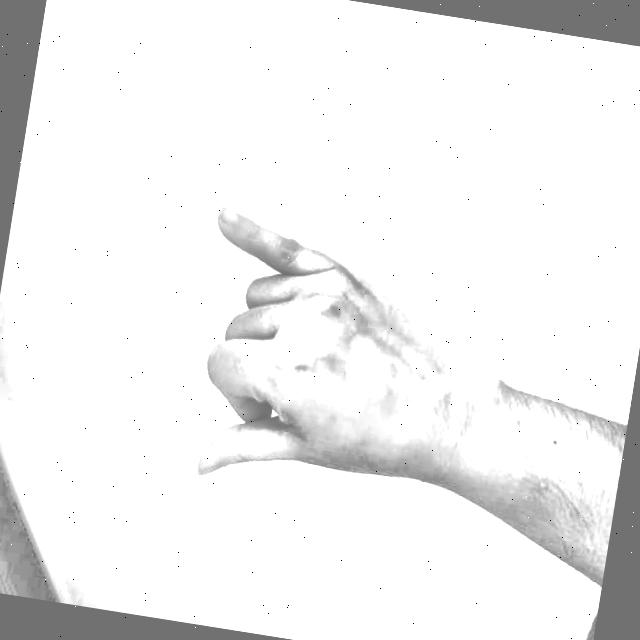Oi: (147, 160, 501, 554)
